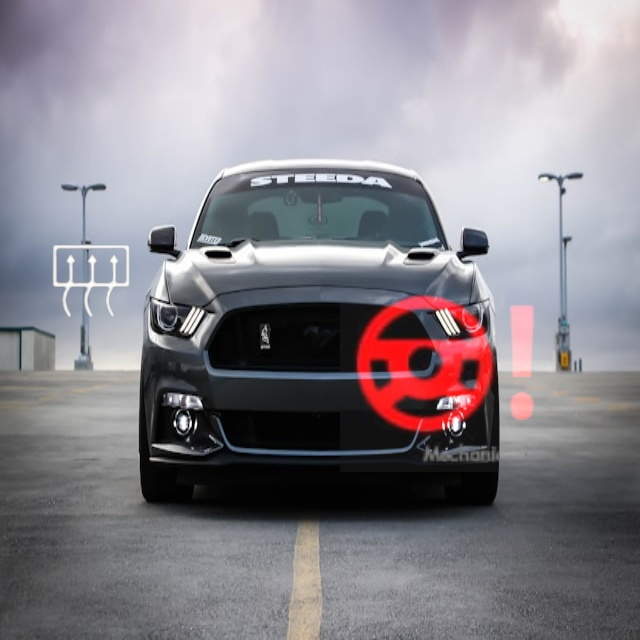symbol: (340, 258, 554, 472), (20, 211, 164, 355)
